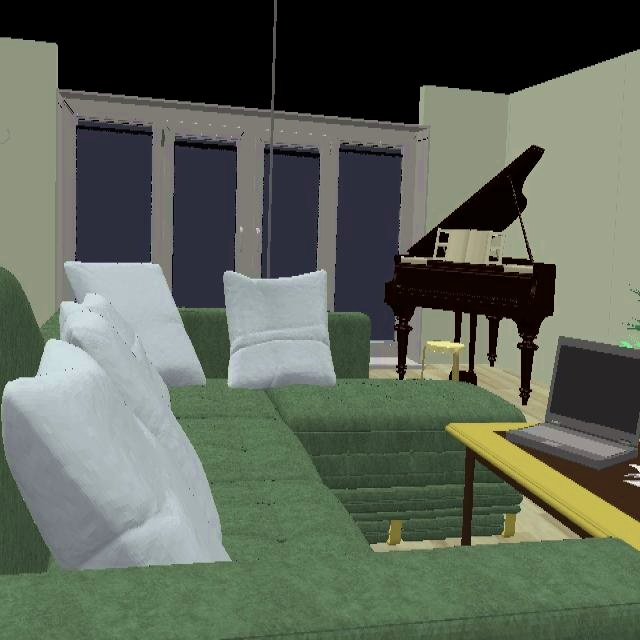laptop: (504, 338, 640, 473)
pillow: (1, 262, 231, 573), (223, 271, 337, 393)
sofa: (0, 308, 640, 640)
table: (445, 424, 640, 554)
